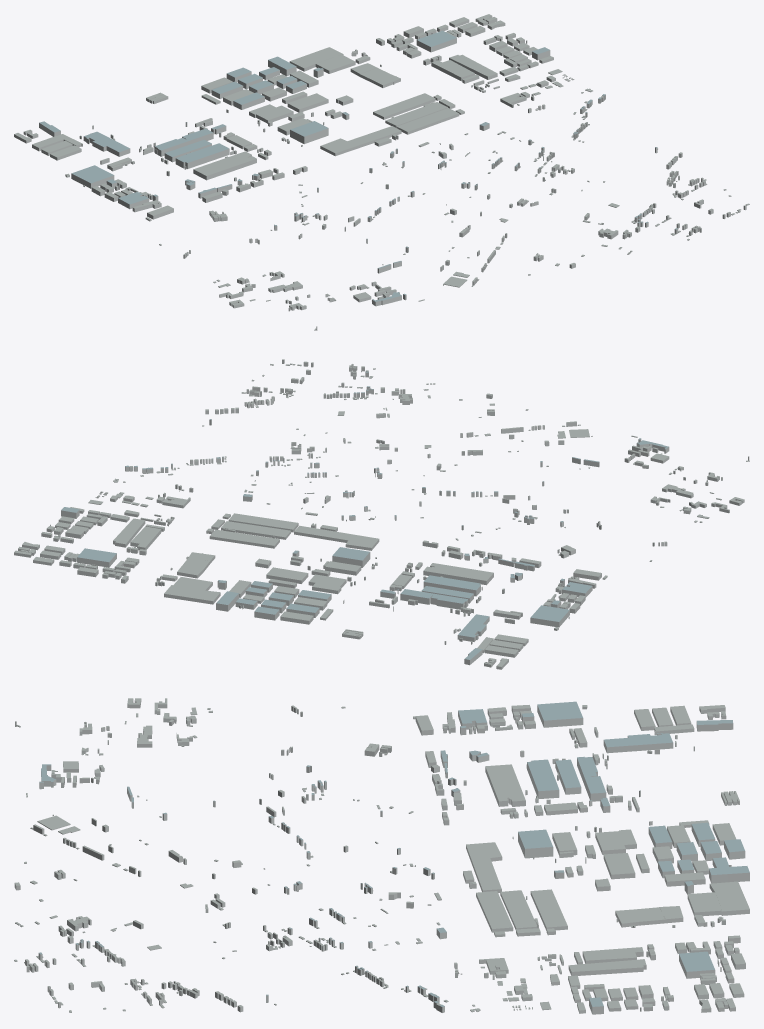
Rendered from far.glb.
3 renders of one model, top to bottom at view 1: azimuth 30°, elevation 25°; view 2: azimuth 150°, elevation 25°; view 3: azimuth 270°, elevation 25°, orthographic. The views are drawn at different scales.
Bounding box in the file's own units: 2152 × 30.75 × 2140.
